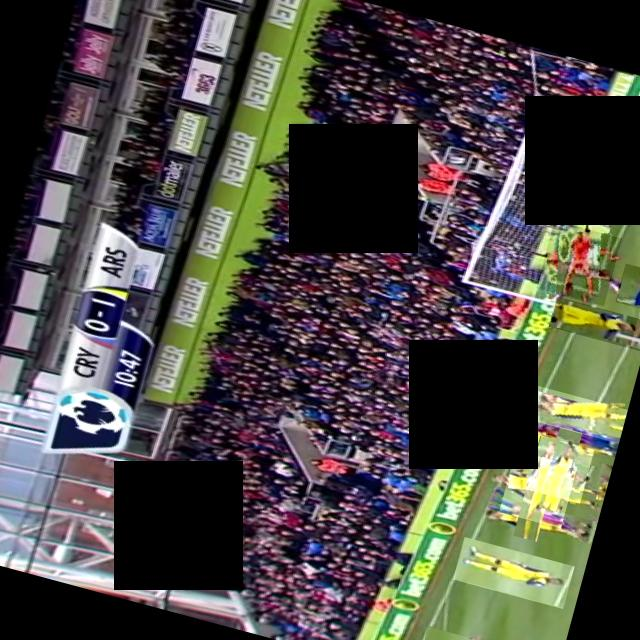goalkeeper: (536, 219, 622, 305)
referee: (590, 462, 612, 508)
soccer-player: (452, 536, 574, 608), (499, 449, 577, 527), (526, 384, 628, 442), (486, 488, 598, 539), (548, 295, 640, 350), (526, 434, 594, 502), (416, 625, 511, 640), (615, 262, 640, 311), (630, 304, 640, 348)
